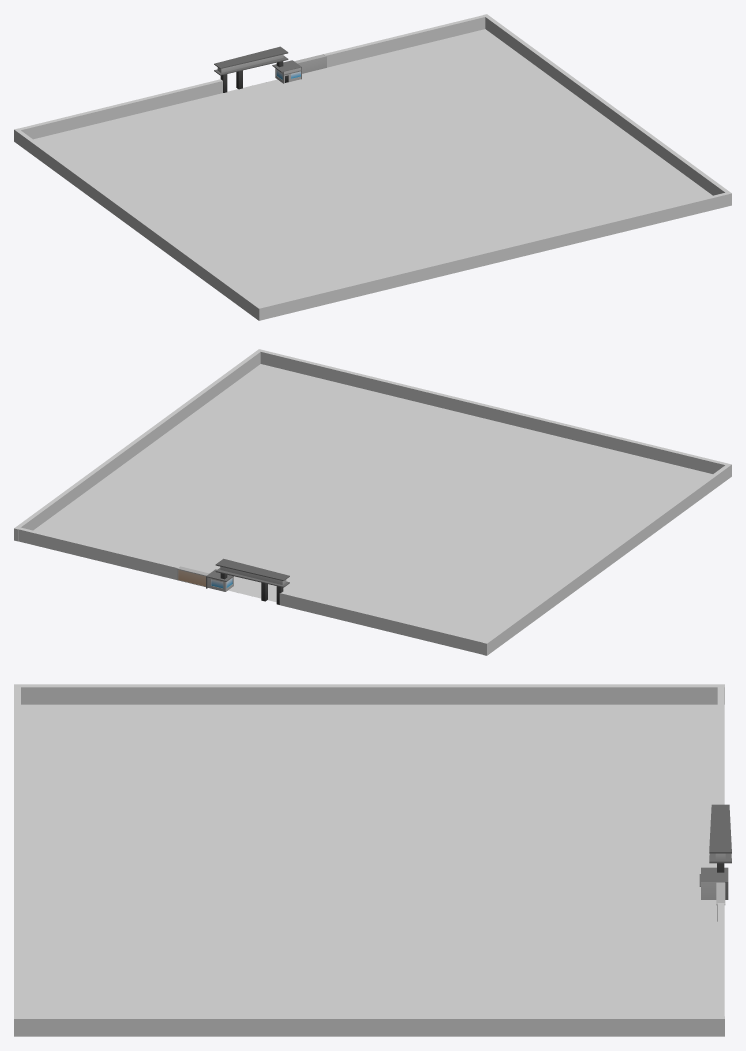
The model's file is Outer.fbx.
3 renders of one model, top to bottom at view 1: azimuth 30°, elevation 25°; view 2: azimuth 150°, elevation 25°; view 3: azimuth 270°, elevation 25°, orthographic. The views are drawn at different scales.
Parts seen in each view (by area): view 1: Asphlat, WallColider5, WallColider4, WallColider3, WallColider2, WallColider1, AtapGerbang; view 2: Asphlat, WallColider5, WallColider4, WallColider3, WallColider2, WallColider1, AtapGerbang; view 3: Asphlat, WallColider4, WallColider3, WallColider5, AtapGerbang, WallColider1, WallColider2, PosSatpam.
Boxes of the visible parts, x1,y1,x2,y2 form: Asphlat: (33,29,712,305); WallColider5: (259,192,731,320); WallColider4: (14,128,262,320); WallColider3: (484,14,731,195); WallColider2: (14,79,222,139); WallColider1: (323,14,488,67); AtapGerbang: (214,46,288,75); Asphlat: (33,364,712,640); WallColider5: (257,349,730,473); WallColider4: (483,463,731,655); WallColider3: (14,349,262,541); WallColider2: (279,591,488,654); WallColider1: (14,527,180,579); AtapGerbang: (215,558,289,587); Asphlat: (21,704,717,1016); WallColider4: (14,684,724,704); WallColider3: (14,1016,724,1036); WallColider5: (14,684,20,1036); AtapGerbang: (709,804,731,863); WallColider1: (717,903,724,1036); WallColider2: (717,684,724,804); PosSatpam: (699,867,728,899).
Bounding box in the file's own units: 22016 × 1230 × 19947.
